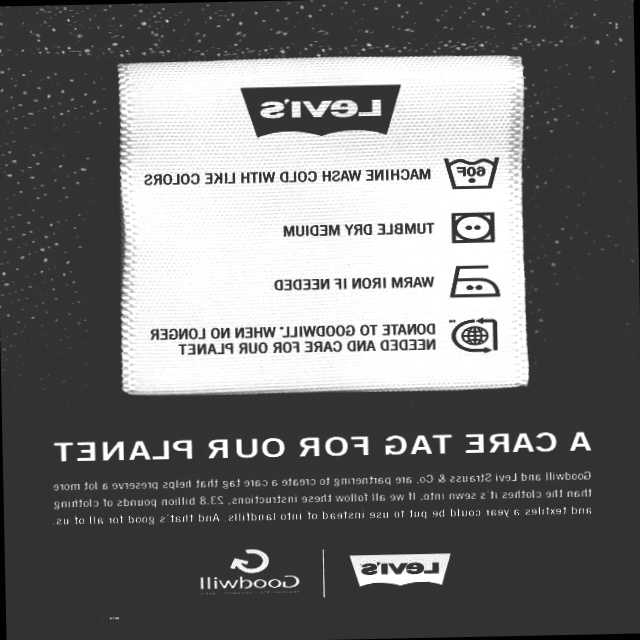30C: (441, 148, 501, 194)
iron_medium: (445, 259, 503, 303)
tumble_dry_medium: (446, 209, 501, 248)
